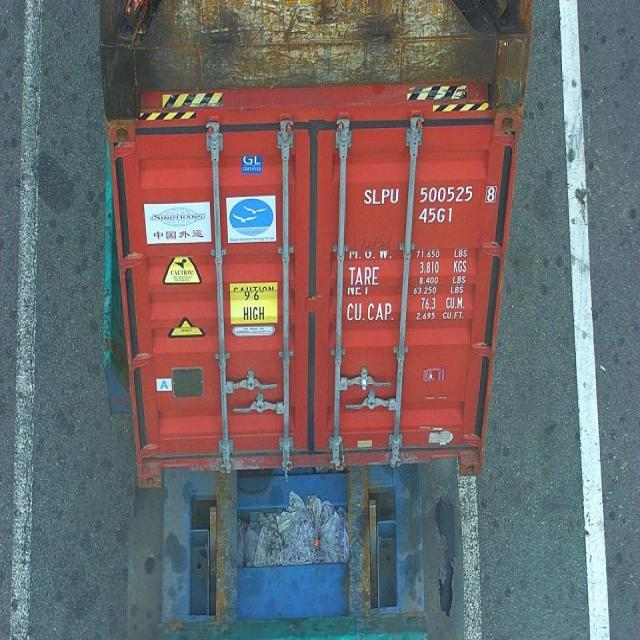ISO: (418, 206, 457, 224)
container_number: (364, 181, 500, 203)
